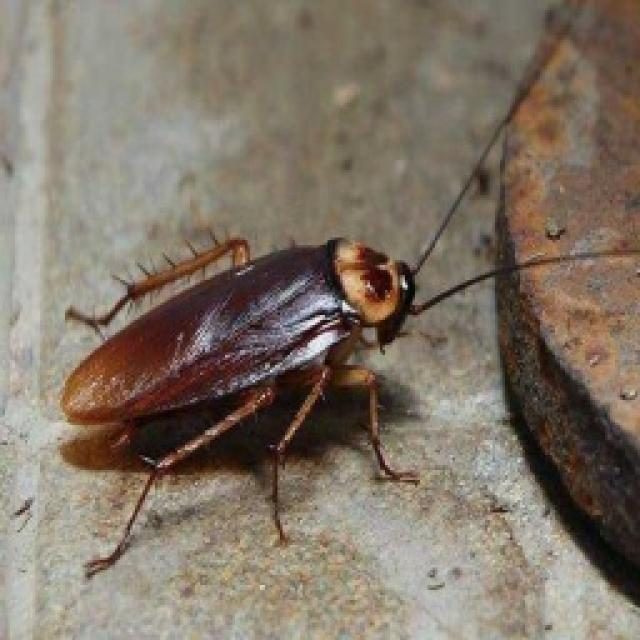cockroach: (6, 154, 516, 582)
